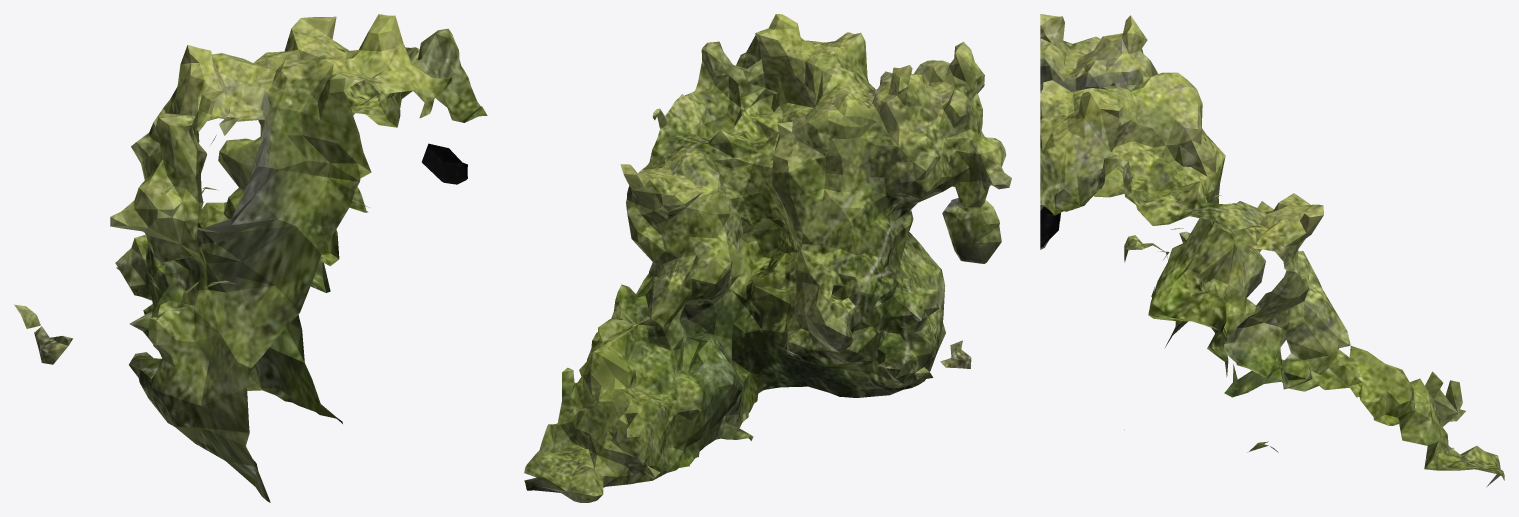
3 renders of one model, left to right at view 1: azimuth 30°, elevation 25°; view 2: azimuth 150°, elevation 25°; view 3: azimuth 270°, elevation 25°, orthographic. The views are drawn at different scales.
Size of the model in its own units: 4.74 by 5.3 by 5.9.
Materials: 4 (4 with a texture image).
